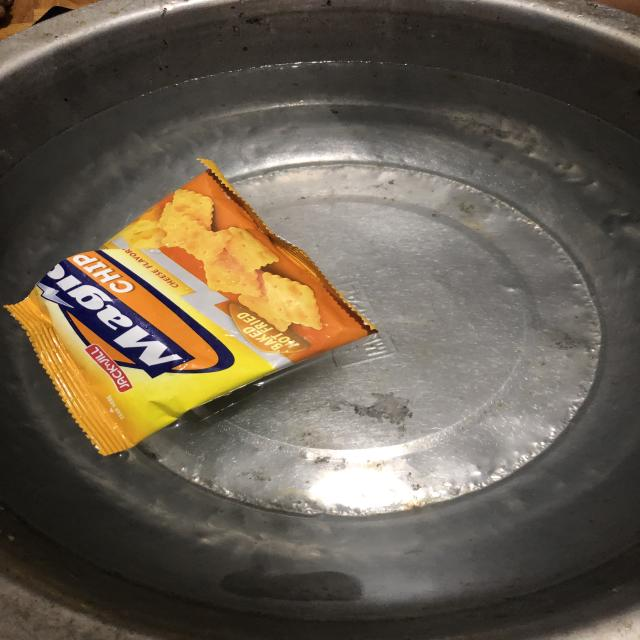Plastic Wrapper: (6, 165, 374, 454)
